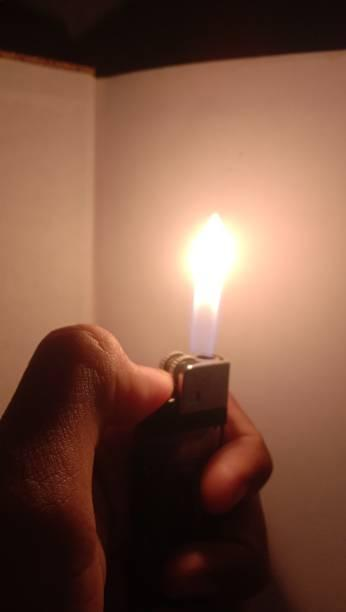Fire: (176, 205, 248, 359)
